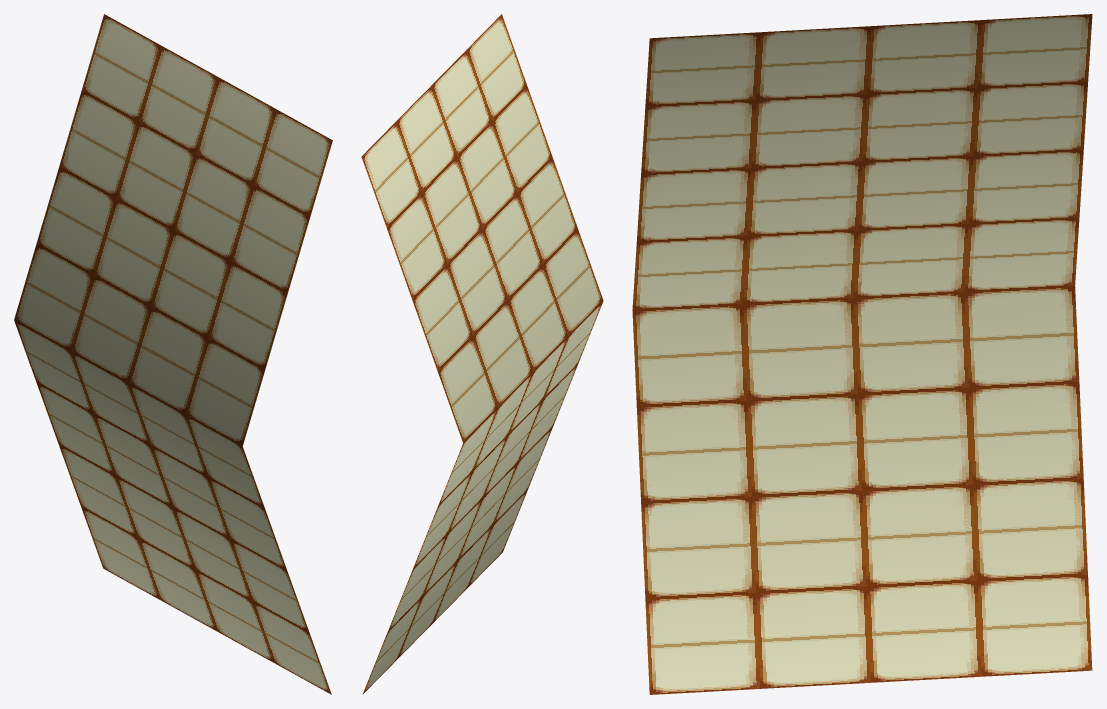
File: 0133uma_mimi_ca_.gltf
3 renders of one model, left to right at view 1: azimuth 30°, elevation 25°; view 2: azimuth 150°, elevation 25°; view 3: azimuth 270°, elevation 25°, orthographic. The views are drawn at different scales.
Visible parts, largest first — view 1: 0133uma_mimi_ca_; view 2: 0133uma_mimi_ca_; view 3: 0133uma_mimi_ca_.
Boxes of the visible parts, x1=… form: 0133uma_mimi_ca_: x1=14, y1=14, x2=332, y2=694; 0133uma_mimi_ca_: x1=361, y1=14, x2=603, y2=694; 0133uma_mimi_ca_: x1=632, y1=14, x2=1092, y2=694.
Bounding box in the file's own units: 0.2334 × 0.886 × 0.562.
1 material, 1 textured.
